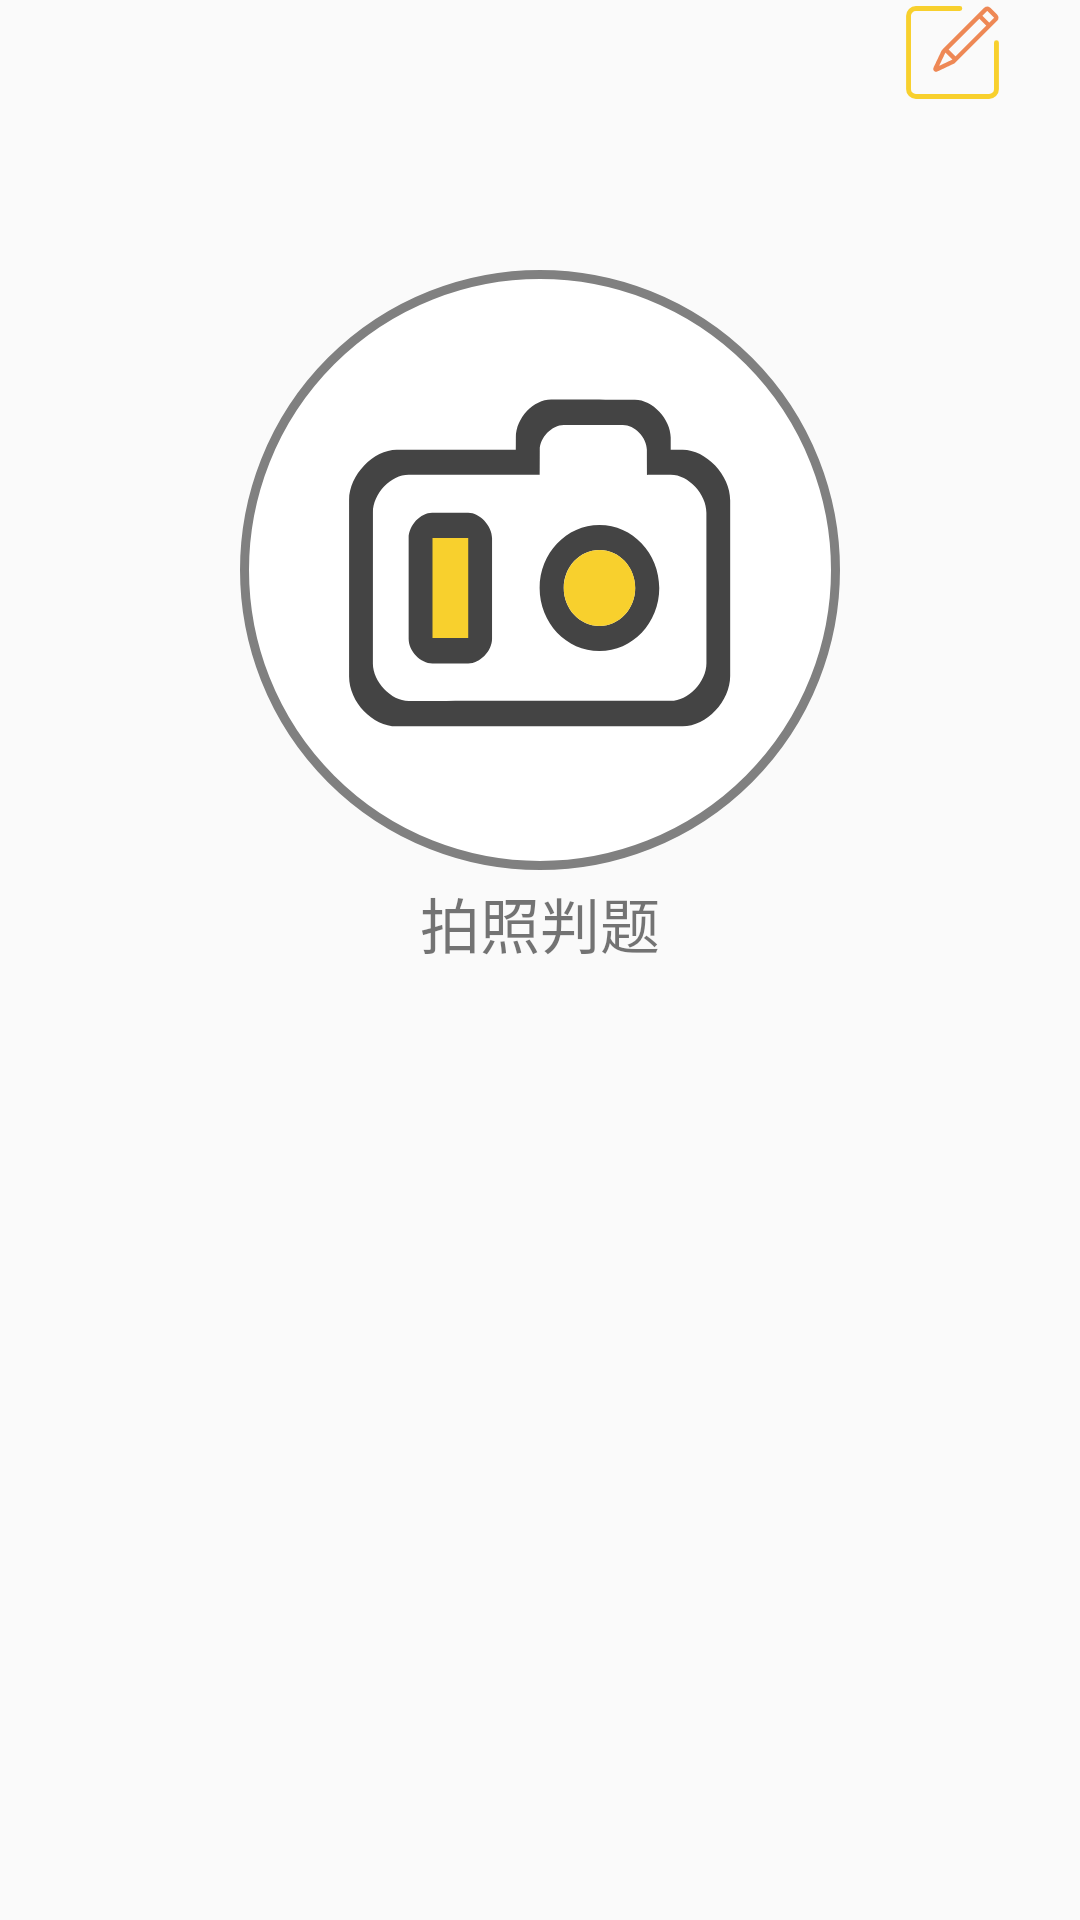

Screen size 1080x1920. Icon name, then its box in pixels as (x1, y1, x2, y2):
feedback: (906, 6, 999, 99)
